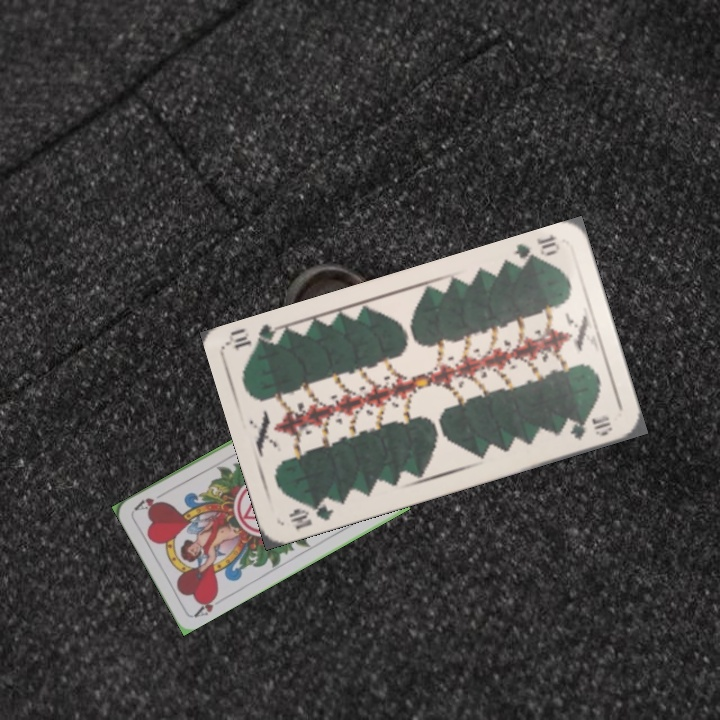G10: (506, 231, 560, 270), (285, 496, 336, 532)
HA: (190, 589, 221, 620)
